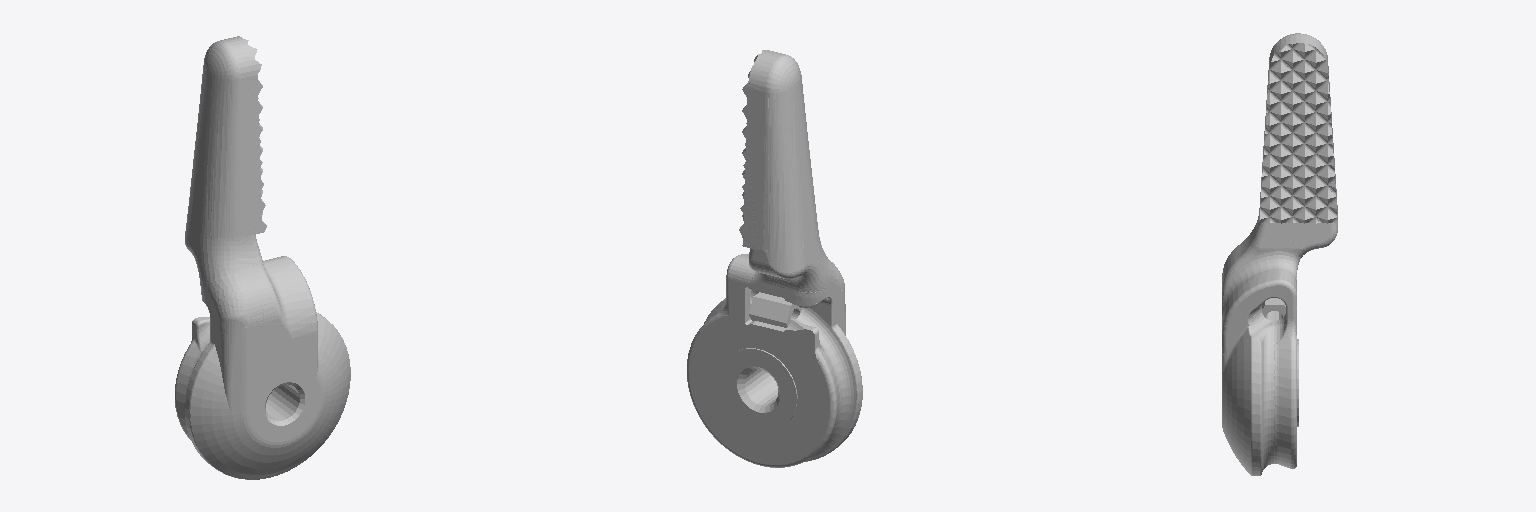
The model's file is tool gripper left link_001.OBJ.
The picture shows the model from 3 angles: view 1: azimuth 30°, elevation 25°; view 2: azimuth 150°, elevation 25°; view 3: azimuth 270°, elevation 25°; orthographic projection.
Visible parts, largest first — view 1: /ambf/env/psm2/tool_gripper_left_link_001_tool_gripper_left_link; view 2: /ambf/env/psm2/tool_gripper_left_link_001_tool_gripper_left_link; view 3: /ambf/env/psm2/tool_gripper_left_link_001_tool_gripper_left_link.
Boxes of the visible parts, box(x1,y1,x2,y2) form: /ambf/env/psm2/tool_gripper_left_link_001_tool_gripper_left_link: box(175, 36, 350, 479); /ambf/env/psm2/tool_gripper_left_link_001_tool_gripper_left_link: box(687, 50, 862, 467); /ambf/env/psm2/tool_gripper_left_link_001_tool_gripper_left_link: box(1222, 33, 1337, 475).
Bounding box in the file's own units: 0.0048 × 0.0121 × 0.003.